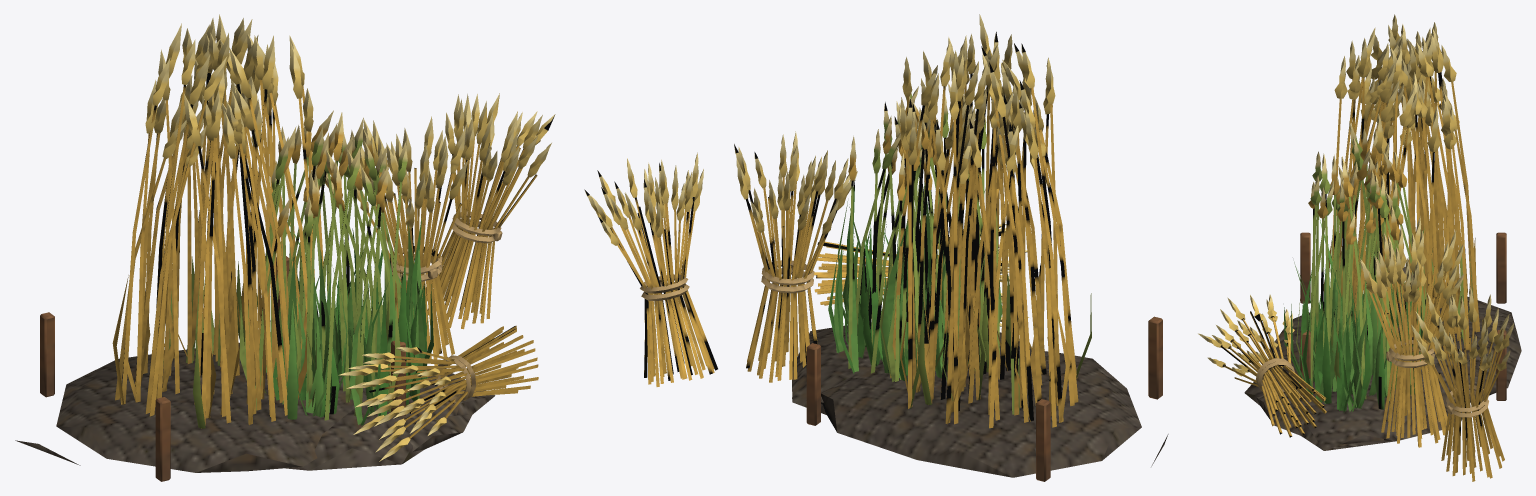
File: wheat_stages.glb
The picture shows the model from 3 angles, left to right: view 1: azimuth 30°, elevation 25°; view 2: azimuth 150°, elevation 25°; view 3: azimuth 270°, elevation 25°; orthographic projection. The views are drawn at different scales.
Visible parts, largest first — view 1: Wheat_Struct_S3, Wheat_Struct_S2, Wheat_Struct_S1, Wheat_Struct_S0; view 2: Wheat_Struct_S3, Wheat_Struct_S2, Wheat_Struct_S1, Wheat_Struct_S0; view 3: Wheat_Struct_S3, Wheat_Struct_S2, Wheat_Struct_S1, Wheat_Struct_S0.
Part boxes in pixels (x1,y1,x2,y2): Wheat_Struct_S3: (15, 14, 555, 481); Wheat_Struct_S2: (244, 110, 495, 470); Wheat_Struct_S1: (266, 217, 472, 451); Wheat_Struct_S0: (273, 306, 427, 417); Wheat_Struct_S3: (584, 14, 1168, 481); Wheat_Struct_S2: (792, 83, 1030, 414); Wheat_Struct_S1: (792, 180, 1009, 404); Wheat_Struct_S0: (844, 279, 968, 380); Wheat_Struct_S3: (1198, 14, 1521, 481); Wheat_Struct_S2: (1244, 121, 1462, 450); Wheat_Struct_S1: (1256, 216, 1454, 444); Wheat_Struct_S0: (1329, 318, 1413, 440).
Size of the model in its own units: 1.88 by 1.27 by 1.13.
Materials: 1 (1 with a texture image).
